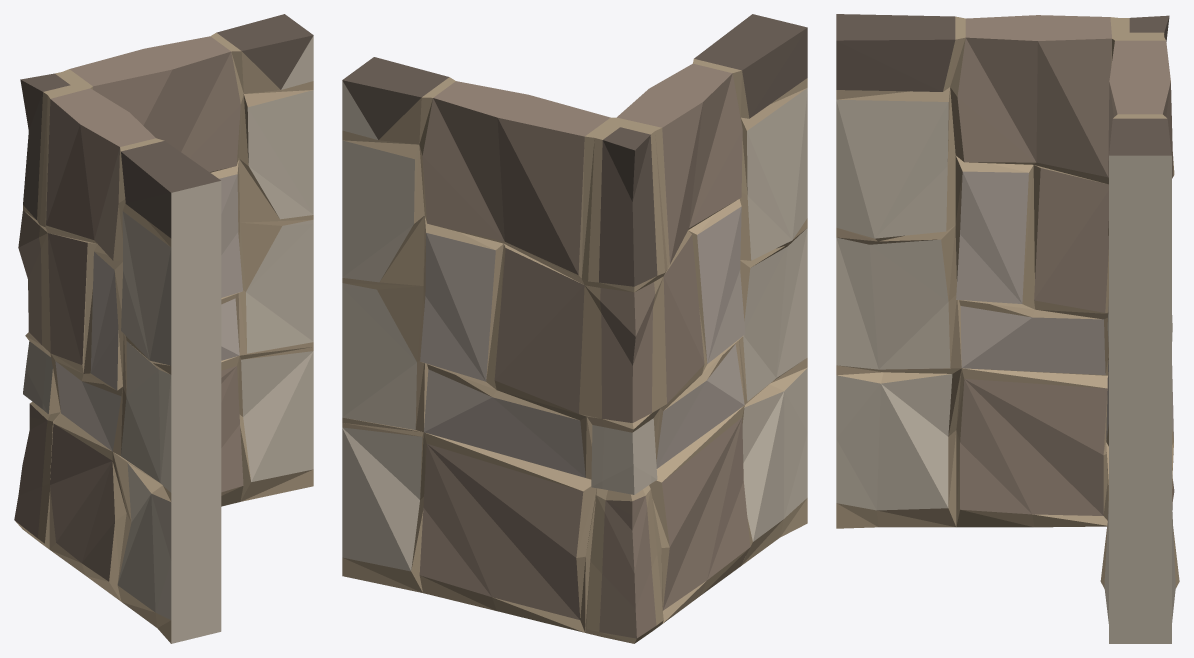
File: RG-Dungeon_Corner-wall-02.fbx
The picture shows the model from 3 angles, left to right: view 1: azimuth 30°, elevation 25°; view 2: azimuth 150°, elevation 25°; view 3: azimuth 270°, elevation 25°; orthographic projection. The views are drawn at different scales.
Visible parts, largest first — view 1: RG-Dungeon_Corner-wall-02; view 2: RG-Dungeon_Corner-wall-02; view 3: RG-Dungeon_Corner-wall-02.
Boxes of the visible parts, x1,y1,x2,y2 form: RG-Dungeon_Corner-wall-02: (14,14,313,643); RG-Dungeon_Corner-wall-02: (342,14,807,643); RG-Dungeon_Corner-wall-02: (836,14,1179,643).
Size of the model in its own units: 10.18 by 16.05 by 10.23.
